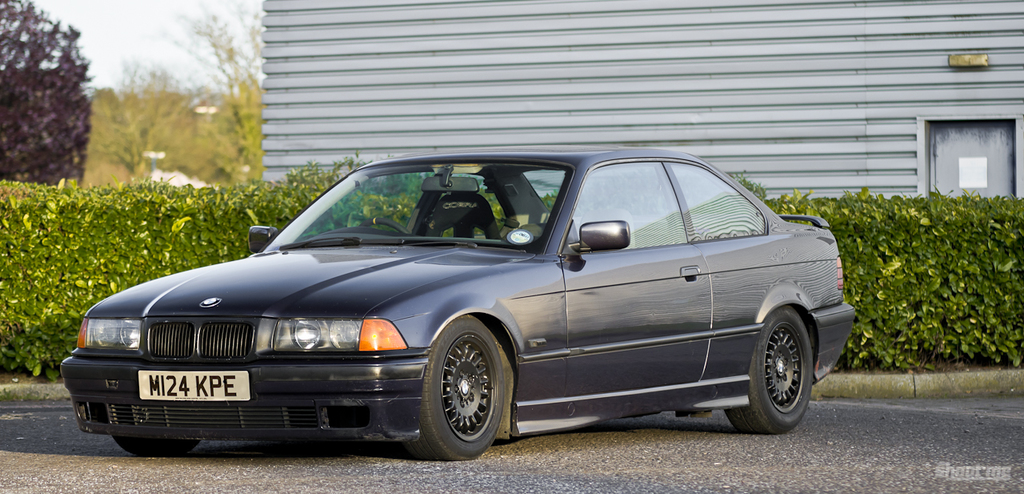car: (53, 128, 892, 468)
